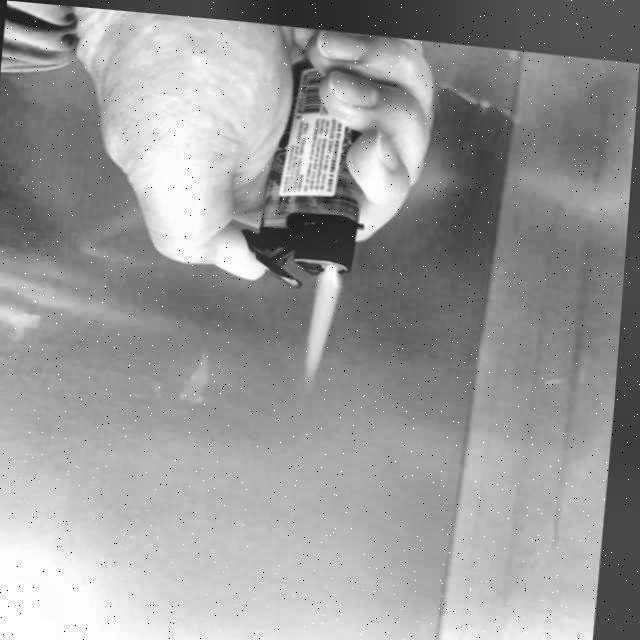Fire: (308, 258, 346, 376)
